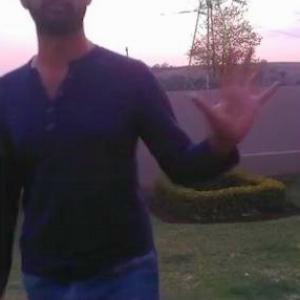follow_hand: (189, 40, 284, 144)
